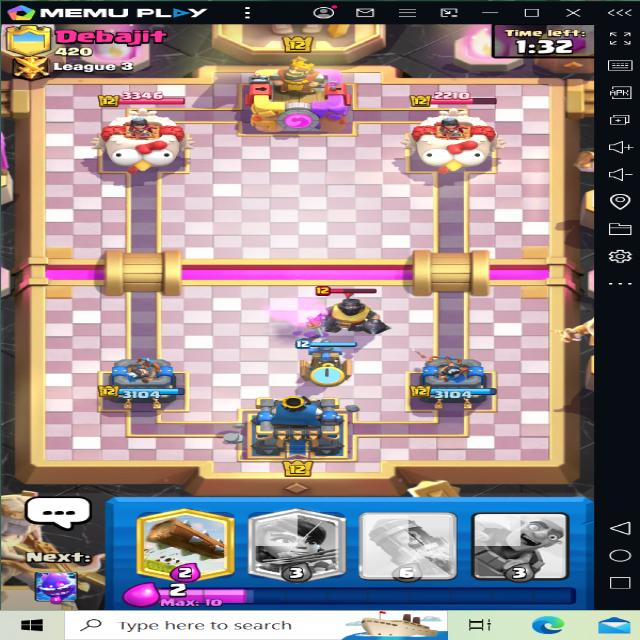mega-knight: (304, 281, 408, 343)
